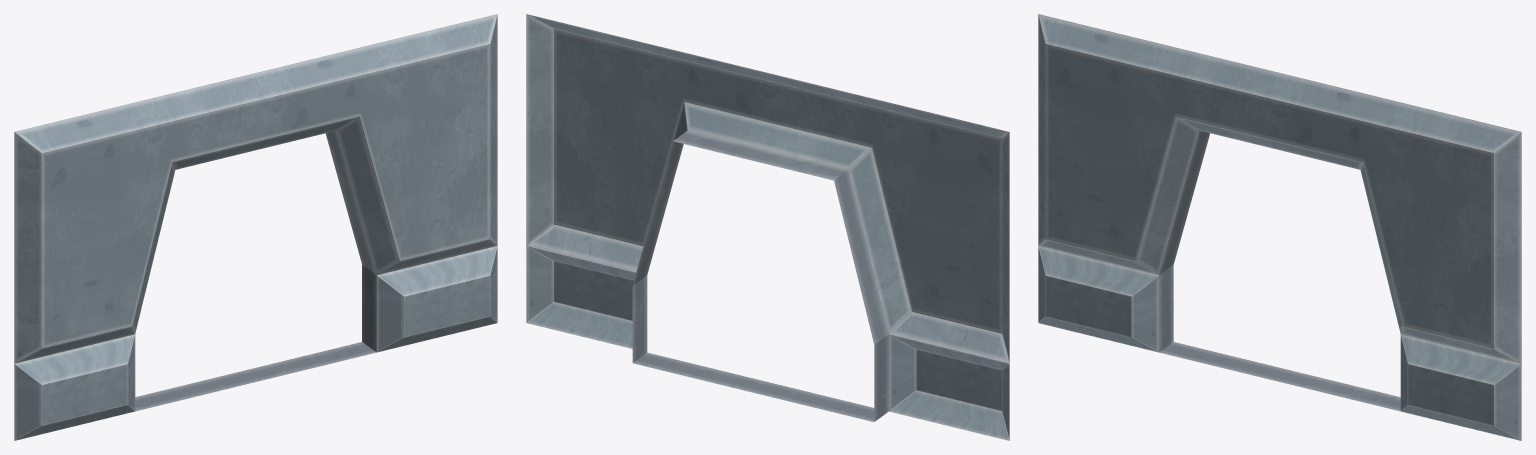
Rendered from WallB.fbx.
The picture shows the model from 3 angles, left to right: view 1: azimuth 30°, elevation 25°; view 2: azimuth 150°, elevation 25°; view 3: azimuth 330°, elevation 25°; orthographic projection.
Parts seen in each view (by area): view 1: wallB01; view 2: wallB01; view 3: wallB01.
Boxes of the visible parts, <box> form: wallB01: <box>14,14,497,440</box>; wallB01: <box>526,14,1009,440</box>; wallB01: <box>1038,14,1521,440</box>.
Size of the model in its own units: 2 by 1.22 by 0.177.
